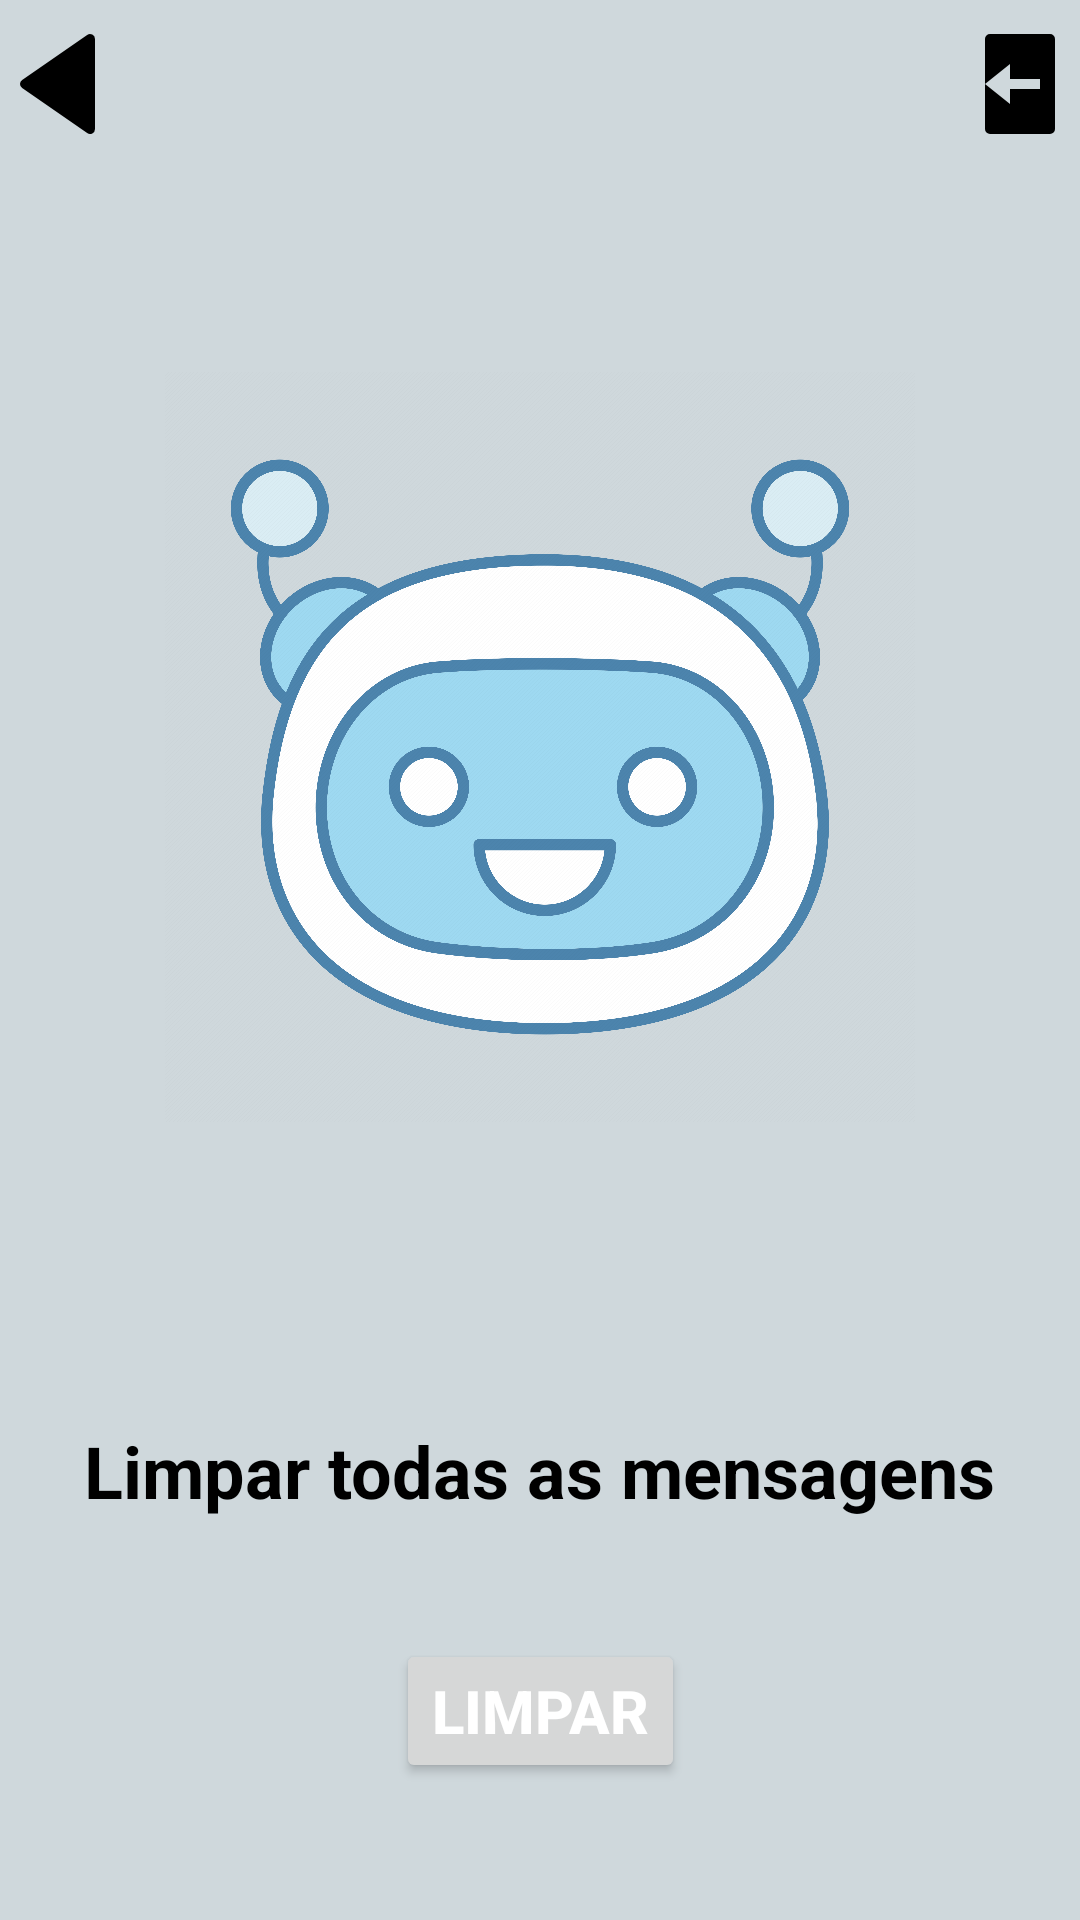

Icons on this 1080px x 1920px Android screen, each with the point to tap as (x=x, y=y):
bxs left arrow: (x=57, y=84)
log out: (x=1020, y=84)
